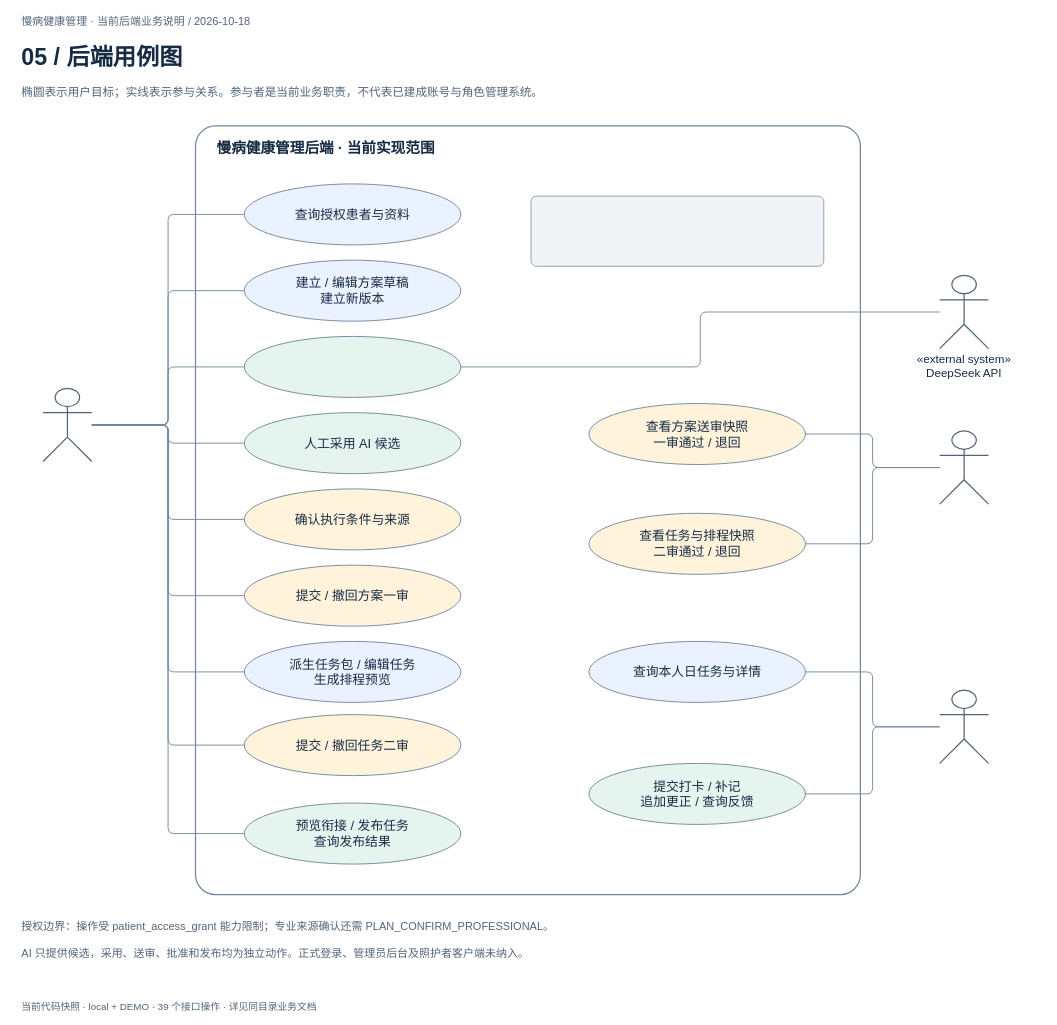
Some shapes in this 1057 by 1025 pixel diagram are drawn without their labels. The shapes that lost their labels are listed below. From the top down, each one's centre as x and y in pixels, then its label:
the point at 677,230: 审核约束 提交人不能审核自己的提交 一审检查方案；二审检查任务与排程
the point at 352,367: 请求 AI 候选 查询结果 / 明确重试
the point at 67,424: 方案编辑者 / 管理人员
the point at 964,467: 独立审核者
the point at 964,726: 患者
